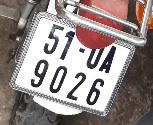0: (47, 62, 71, 97)
1: (57, 28, 78, 63)
2: (64, 70, 89, 103)
5: (39, 22, 66, 59)
6: (84, 76, 108, 108)
9: (27, 57, 52, 92)
A: (97, 44, 120, 76)
D: (82, 39, 109, 74)
